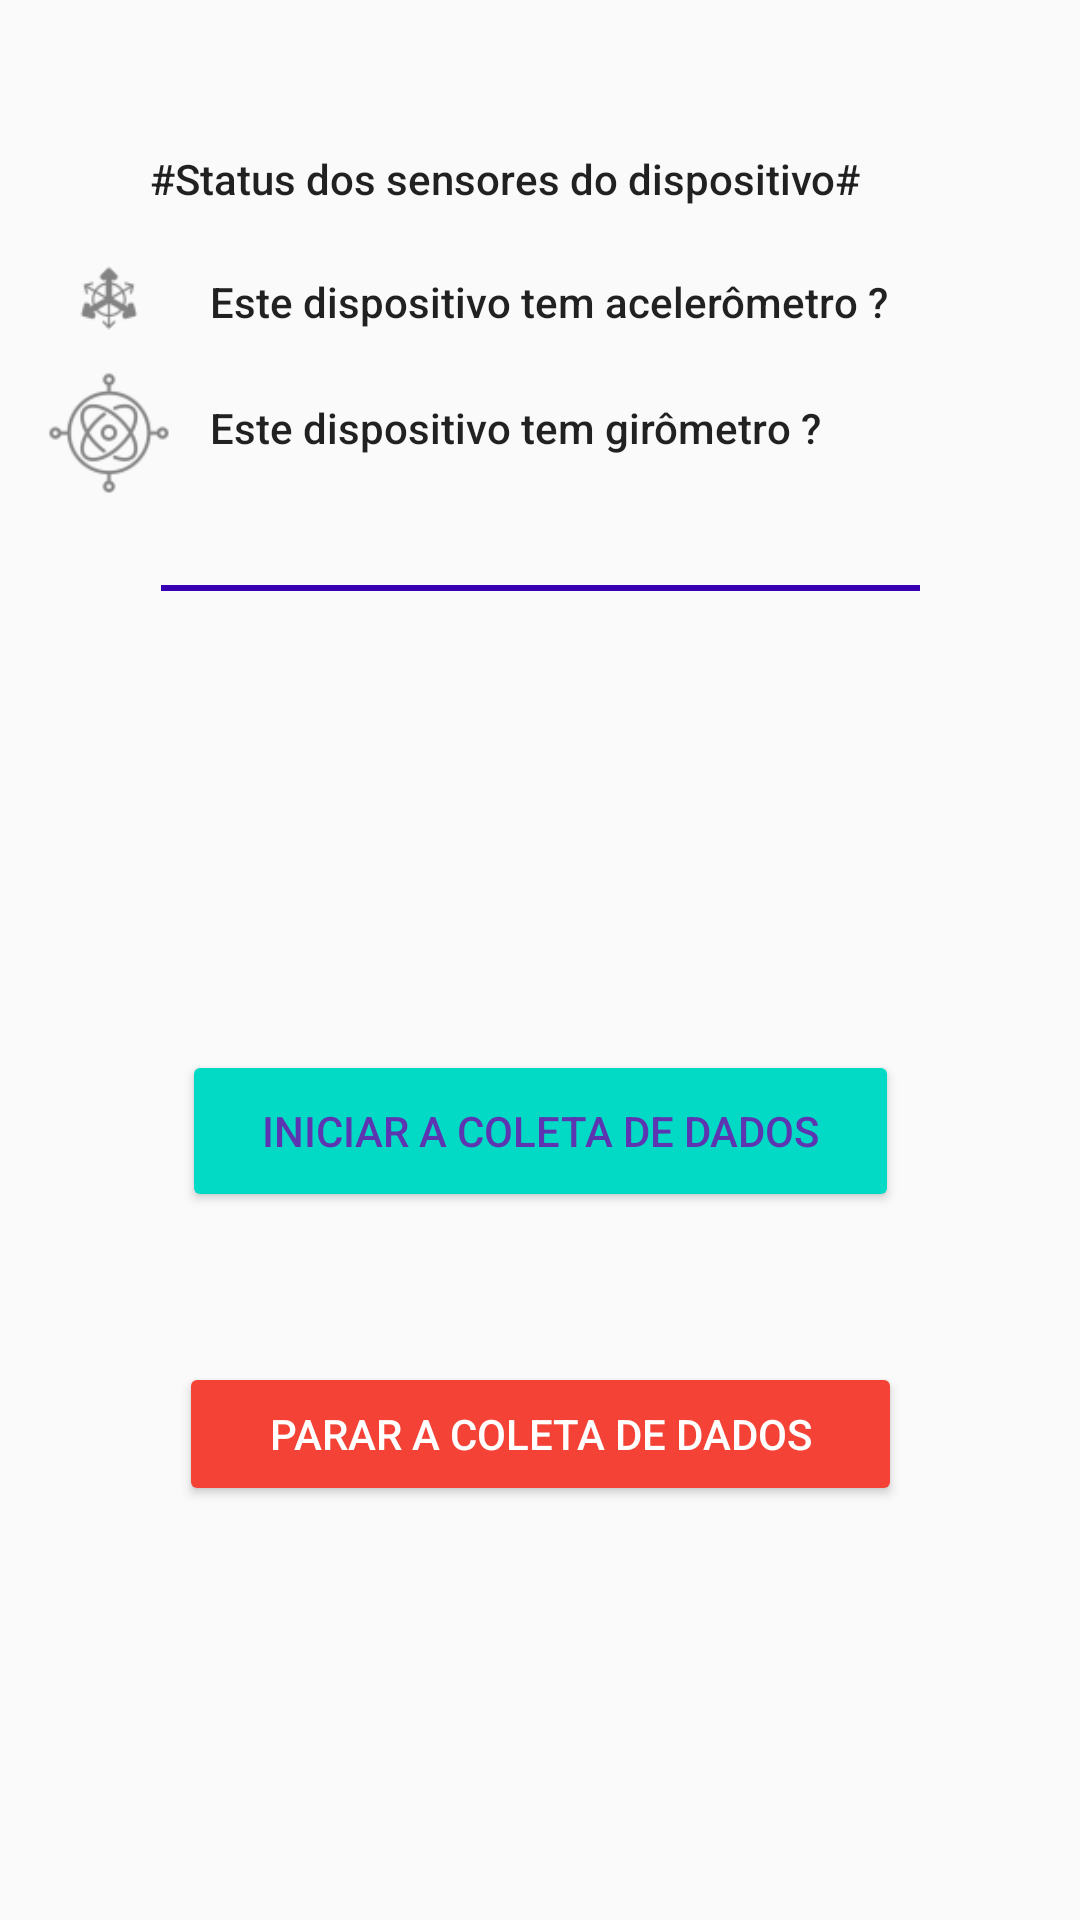

Icon click points for this 1080w x 1920h phone screenshot, format (x,y):
girometro: (109,433)
Imagem acelerometro: (109,298)
